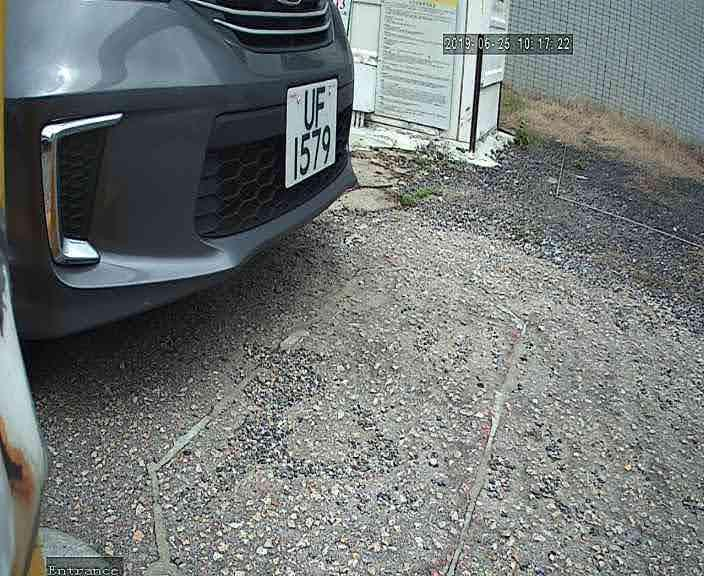privatecar: (1, 1, 366, 357)
